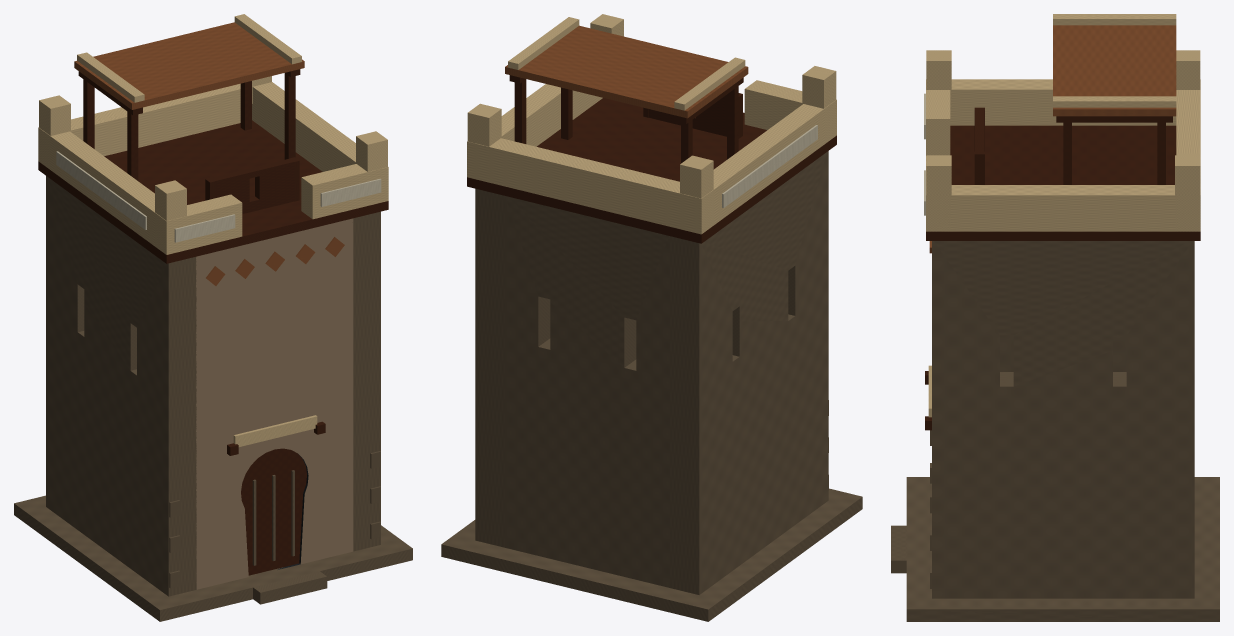
Rendered from Berber_Outpost_Age4_arrowslits_stone.fbx.
The picture shows the model from 3 angles, left to right: view 1: azimuth 30°, elevation 25°; view 2: azimuth 150°, elevation 25°; view 3: azimuth 270°, elevation 25°; orthographic projection. The views are drawn at different scales.
Visible parts, largest first — view 1: fortified_stone_side, fortified_stone_face, lookout_floor, tower_foundation, fitted_flat_canopy, fortified_stone_side.001, lookout_parapet_back, horseshoe_door.001, lookout_parapet_side.001, lookout_parapet_side, arrow_shield_panel, lookout_parapet_front.001 (+15 smaller); view 2: fortified_stone_face.001, fortified_stone_side, tower_foundation, lookout_floor, lookout_parapet_back, fitted_flat_canopy, fortified_stone_side.001, lookout_parapet_side, lookout_parapet_side.001, lookout_parapet_front, neutral_owner_side_band, corner_merlon.003 (+8 smaller); view 3: fortified_stone_side.001, lookout_floor, tower_foundation, lookout_parapet_side.001, fitted_flat_canopy, lookout_parapet_side, lookout_parapet_back, lookout_parapet_front, stone_crown_coping.001, stone_crown_coping, corner_merlon, corner_merlon.002 (+8 smaller).
Boxes of the visible parts, x1,y1,x2,y2 form: fortified_stone_side: [46, 176, 196, 596]; fortified_stone_face: [196, 218, 353, 589]; lookout_floor: [38, 120, 388, 263]; tower_foundation: [14, 495, 412, 621]; fitted_flat_canopy: [74, 22, 304, 109]; fortified_stone_side.001: [352, 211, 380, 551]; lookout_parapet_back: [38, 83, 240, 168]; horseshoe_door.001: [241, 448, 306, 575]; lookout_parapet_side.001: [252, 82, 355, 171]; lookout_parapet_side: [49, 131, 160, 248]; arrow_shield_panel: [211, 158, 294, 213]; lookout_parapet_front.001: [301, 164, 388, 219]; fortified_stone_face.001: [504, 196, 670, 587]; fortified_stone_side: [669, 151, 828, 594]; tower_foundation: [441, 488, 862, 621]; lookout_floor: [467, 98, 836, 243]; lookout_parapet_back: [467, 138, 713, 234]; fitted_flat_canopy: [505, 25, 748, 118]; fortified_stone_side.001: [475, 188, 504, 547]; lookout_parapet_side: [713, 104, 830, 225]; lookout_parapet_side.001: [501, 84, 602, 146]; lookout_parapet_front: [744, 80, 836, 143]; neutral_owner_side_band: [722, 125, 817, 207]; corner_merlon.003: [467, 103, 501, 146]; fortified_stone_side.001: [932, 241, 1194, 598]; lookout_floor: [926, 125, 1200, 240]; tower_foundation: [906, 477, 1219, 621]; lookout_parapet_side.001: [938, 185, 1187, 231]; fitted_flat_canopy: [1053, 25, 1176, 116]; lookout_parapet_side: [950, 79, 1176, 125]; lookout_parapet_back: [1176, 79, 1200, 231]; lookout_parapet_front: [926, 79, 950, 155]; stone_crown_coping.001: [1053, 96, 1176, 107]; stone_crown_coping: [1053, 14, 1176, 25]; corner_merlon: [926, 50, 951, 108]; corner_merlon.002: [926, 155, 951, 195].
Bounding box in the file's own units: 360 × 632 × 378.
Materials: 5 (5 with a texture image).
